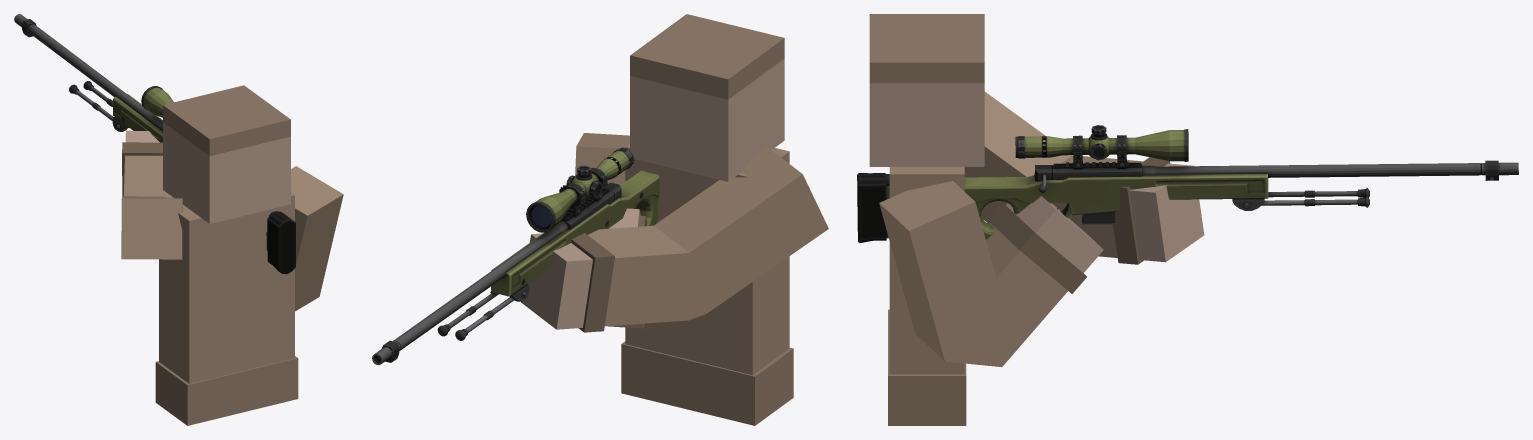
Rendered from Sniper Rifle.gltf.
The picture shows the model from 3 angles, left to right: view 1: azimuth 30°, elevation 25°; view 2: azimuth 150°, elevation 25°; view 3: azimuth 270°, elevation 25°; orthographic projection. The views are drawn at different scales.
Size of the model in its own units: 5.24 by 6.8 by 11.5.
2 materials, 1 textured.
